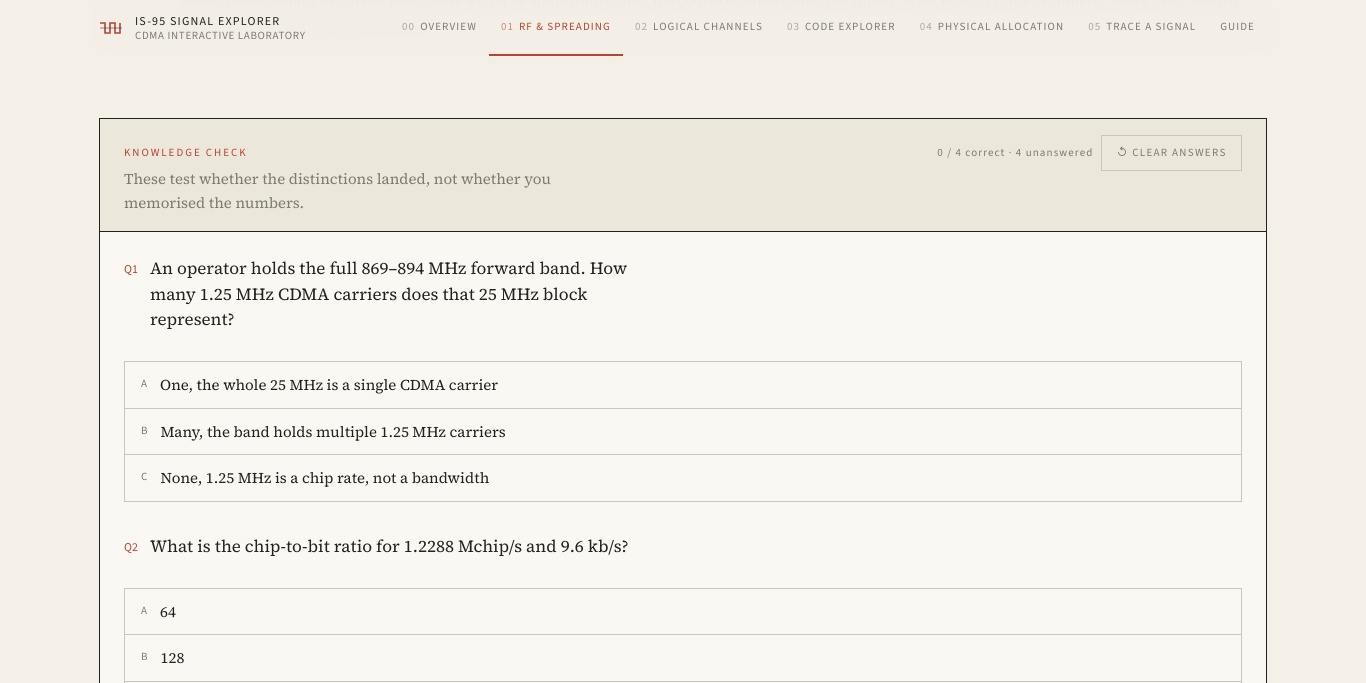
Test: interactive controls › answers a knowledge-check question and shows feedback
The width and height of the screenshot is (1366, 683).
(page scrolled)
Click the button "a One, the whole 25 MHz is a single CDMA carrier": (329, 384) [125,362,1241,408]
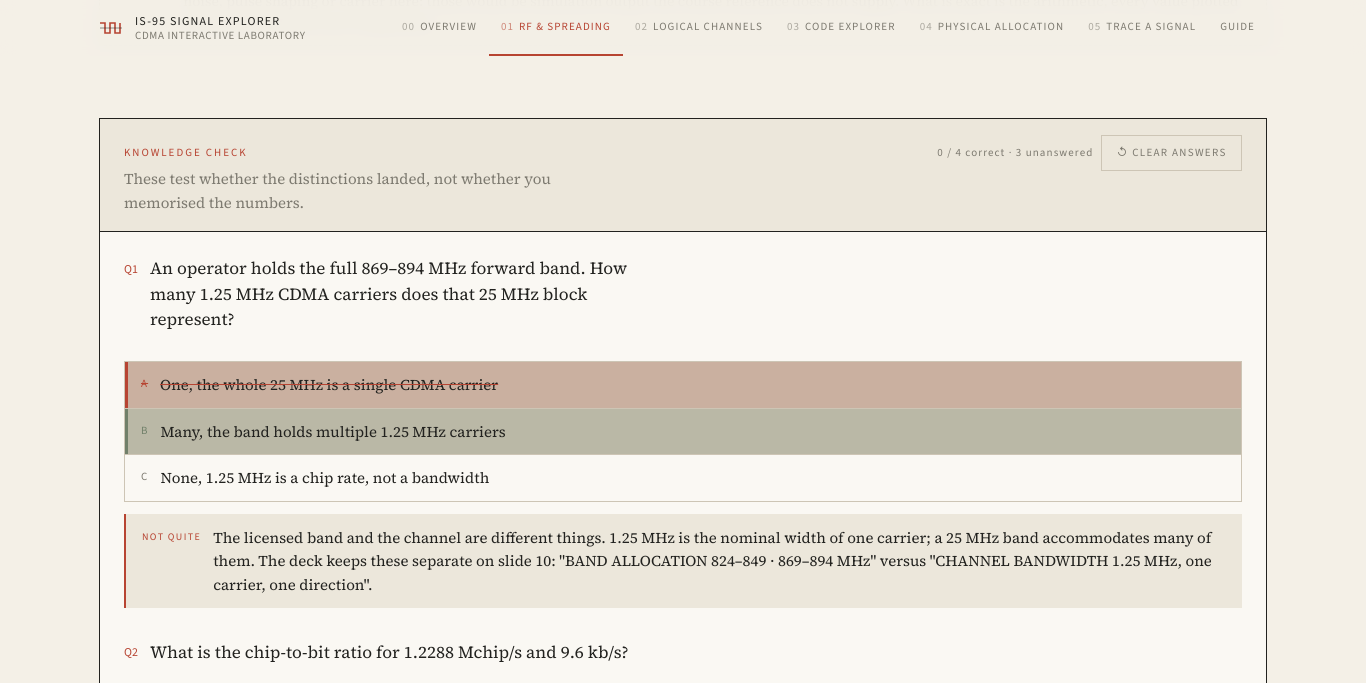
Expected: the message is shown, [124,514,1242,608]
